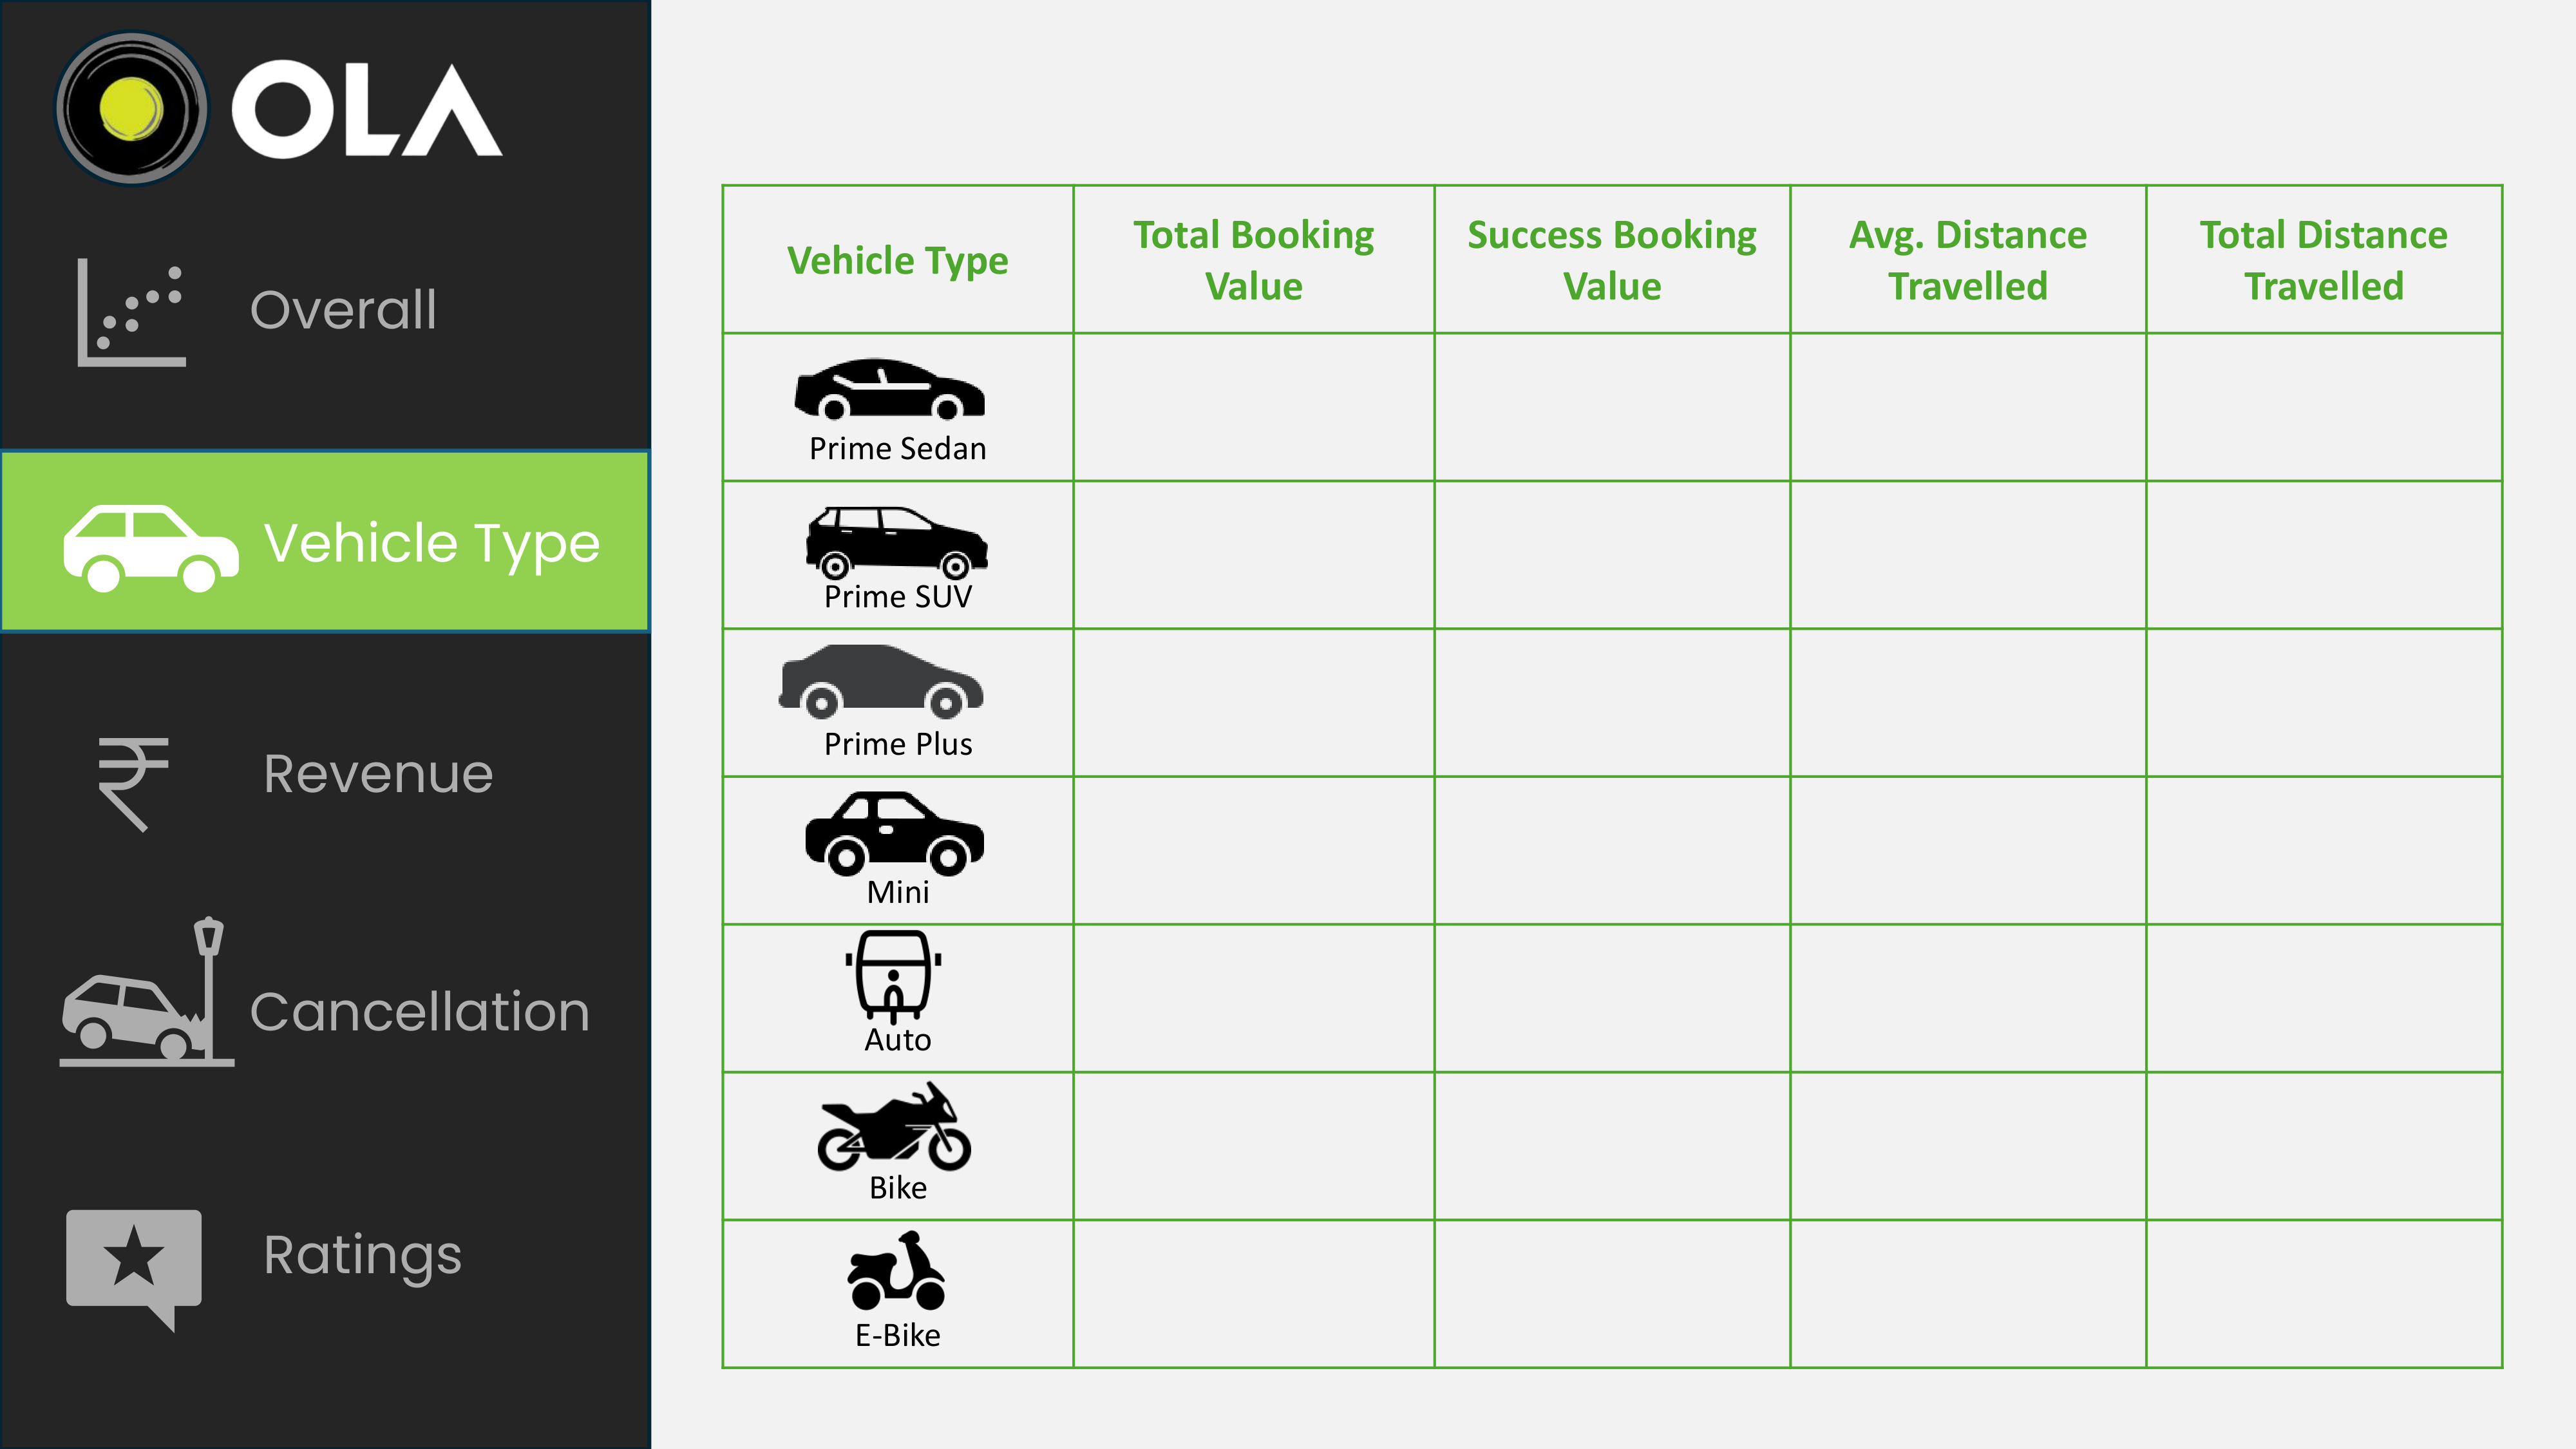

This screenshot's page, from the dashboard's own definition file:
{"tool":"powerbi","page":{"name":"Vehical Type","canvas":[1280,720],"ordinal":1},"visuals":[{"type":"actionButton","box":[0,339.7,322.1,92],"z":0},{"type":"actionButton","box":[0,452,322.1,98.8],"z":1000},{"type":"actionButton","box":[0,579.2,322.1,92],"z":2000},{"type":"card","fields":{"Values":["Sum(July.Booking_Value)"]},"box":[536.9,165.3,171.4,74.3],"z":3000},{"type":"card","fields":{"Values":["Sum(July.Booking_Value)"]},"box":[537.8,238.6,170.4,73.8],"z":4000},{"type":"card","fields":{"Values":["Avg(July.Ride_Distance)"]},"box":[888,238.6,170.4,73.8],"z":5000},{"type":"card","fields":{"Values":["Sum(July.Booking_Value)"]},"box":[708.2,238.6,170.4,73.8],"z":6000},{"type":"card","fields":{"Values":["Sum(July.Booking_Value)"]},"box":[537.8,386.3,170.4,73.8],"z":7000},{"type":"card","fields":{"Values":["Sum(July.Booking_Value)"]},"box":[537.8,463.9,170.4,73.8],"z":8000},{"type":"card","fields":{"Values":["Sum(July.Booking_Value)"]},"box":[537.8,524.5,170.4,73.8],"z":9000},{"type":"card","fields":{"Values":["Sum(July.Booking_Value)"]},"box":[537.8,598.3,170.4,73.8],"z":10000},{"type":"card","fields":{"Values":["Sum(July.Booking_Value)"]},"box":[717.6,164.7,170.4,73.8],"z":11000},{"type":"card","fields":{"Values":["Avg(July.Ride_Distance)"]},"box":[895.6,164.7,170.4,73.8],"z":12000},{"type":"card","fields":{"Values":["Avg(July.Ride_Distance)"]},"box":[895.6,386.3,170.4,73.8],"z":13000},{"type":"card","fields":{"Values":["Sum(July.Booking_Value)"]},"box":[708.2,463.9,170.4,73.8],"z":14000},{"type":"card","fields":{"Values":["Avg(July.Ride_Distance)"]},"box":[895.6,463.9,170.4,73.8],"z":15000},{"type":"card","fields":{"Values":["Sum(July.Booking_Value)"]},"box":[708.2,534,170.4,73.8],"z":16000},{"type":"card","fields":{"Values":["Avg(July.Ride_Distance)"]},"box":[895.6,537.8,170.4,73.8],"z":17000},{"type":"card","fields":{"Values":["Sum(July.Booking_Value)"]},"box":[708.2,607.8,170.4,73.8],"z":18000},{"type":"card","fields":{"Values":["Avg(July.Ride_Distance)"]},"box":[895.6,607.8,170.4,73.8],"z":19000},{"type":"card","fields":{"Values":["Sum(July.Booking_Value)"]},"box":[537.8,312.4,170.4,73.8],"z":20000},{"type":"card","fields":{"Values":["Sum(July.Booking_Value)"]},"box":[708.2,386.3,170.4,73.8],"z":21000},{"type":"card","fields":{"Values":["Avg(July.Ride_Distance)"]},"box":[888,312.4,170.4,73.8],"z":22000},{"type":"card","fields":{"Values":["Sum(July.Booking_Value)"]},"box":[710.1,316.2,170.4,73.8],"z":23000},{"type":"actionButton","box":[0,0,100,40],"z":24000},{"type":"card","fields":{"Values":["Sum(July.Ride_Distance)"]},"box":[1066,164.7,170.4,73.8],"z":25000},{"type":"card","fields":{"Values":["Sum(July.Ride_Distance)"]},"box":[1066,238.6,170.4,73.8],"z":26000},{"type":"card","fields":{"Values":["Sum(July.Ride_Distance)"]},"box":[1066,312.4,170.4,73.8],"z":27000},{"type":"card","fields":{"Values":["Sum(July.Ride_Distance)"]},"box":[1066,390.1,170.4,73.8],"z":28000},{"type":"card","fields":{"Values":["Sum(July.Ride_Distance)"]},"box":[1066,460.1,170.4,73.8],"z":29000},{"type":"card","fields":{"Values":["Sum(July.Ride_Distance)"]},"box":[1058.5,537.8,170.4,73.8],"z":30000},{"type":"card","fields":{"Values":["Sum(July.Ride_Distance)"]},"box":[1066,611.6,170.4,73.8],"z":31000},{"type":"slicer","title":"Date","fields":{"Values":["July.Date"]},"box":[664.3,19.7,317,62.2],"z":32000}]}

Visuals, with their boxes on the page's 1280x720 design canvas (x1, y1, x2, y2). These are canvas units, not pixel positions in the 2576x1449 screenshot, which may show the page scaled, cropped or inside an application window:
actionButton: crop(0, 340, 322, 432)
actionButton: crop(0, 452, 322, 551)
actionButton: crop(0, 579, 322, 671)
card - Sum(July.Booking_Value): crop(537, 165, 708, 240)
card - Sum(July.Booking_Value): crop(538, 239, 708, 312)
card - Avg(July.Ride_Distance): crop(888, 239, 1058, 312)
card - Sum(July.Booking_Value): crop(708, 239, 879, 312)
card - Sum(July.Booking_Value): crop(538, 386, 708, 460)
card - Sum(July.Booking_Value): crop(538, 464, 708, 538)
card - Sum(July.Booking_Value): crop(538, 524, 708, 598)
card - Sum(July.Booking_Value): crop(538, 598, 708, 672)
card - Sum(July.Booking_Value): crop(718, 165, 888, 238)
card - Avg(July.Ride_Distance): crop(896, 165, 1066, 238)
card - Avg(July.Ride_Distance): crop(896, 386, 1066, 460)
card - Sum(July.Booking_Value): crop(708, 464, 879, 538)
card - Avg(July.Ride_Distance): crop(896, 464, 1066, 538)
card - Sum(July.Booking_Value): crop(708, 534, 879, 608)
card - Avg(July.Ride_Distance): crop(896, 538, 1066, 612)
card - Sum(July.Booking_Value): crop(708, 608, 879, 682)
card - Avg(July.Ride_Distance): crop(896, 608, 1066, 682)
card - Sum(July.Booking_Value): crop(538, 312, 708, 386)
card - Sum(July.Booking_Value): crop(708, 386, 879, 460)
card - Avg(July.Ride_Distance): crop(888, 312, 1058, 386)
card - Sum(July.Booking_Value): crop(710, 316, 880, 390)
actionButton: crop(0, 0, 100, 40)
card - Sum(July.Ride_Distance): crop(1066, 165, 1236, 238)
card - Sum(July.Ride_Distance): crop(1066, 239, 1236, 312)
card - Sum(July.Ride_Distance): crop(1066, 312, 1236, 386)
card - Sum(July.Ride_Distance): crop(1066, 390, 1236, 464)
card - Sum(July.Ride_Distance): crop(1066, 460, 1236, 534)
card - Sum(July.Ride_Distance): crop(1058, 538, 1229, 612)
card - Sum(July.Ride_Distance): crop(1066, 612, 1236, 685)
"Date" slicer: crop(664, 20, 981, 82)
